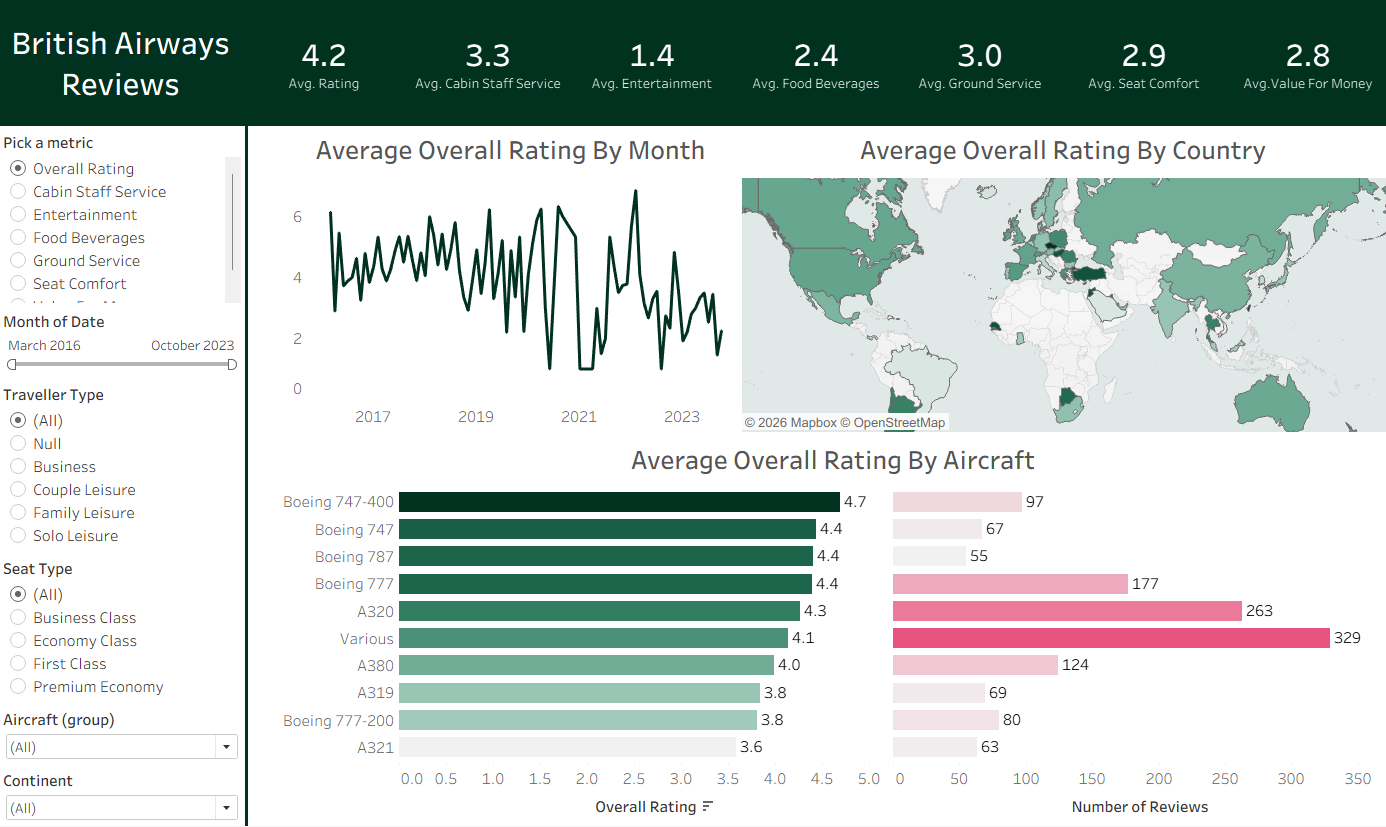

Layout of this report page (visuals, bound fields, positions):
{"tool":"tableau","page":{"name":"British Airways Reviews","canvas":[1390,827],"ordinal":0},"visuals":[{"type":"text","box":[0,0,243.2,127]},{"type":"worksheet","title":"Rating","mark":"Automatic","box":[243,0,164,127]},{"type":"worksheet","title":"Cabin Staff Service","mark":"Automatic","box":[407,0,164,127]},{"type":"worksheet","title":"Entertainment","mark":"Automatic","box":[571,0,164,127]},{"type":"worksheet","title":"Food Beverages","mark":"Automatic","box":[735,0,164,127]},{"type":"worksheet","title":"Ground Service","mark":"Automatic","box":[899,0,164,127]},{"type":"worksheet","title":"Seat Comfort","mark":"Automatic","box":[1063,0,164,127]},{"type":"worksheet","title":"Value For Money","mark":"Automatic","box":[1227,0,163,127]},{"type":"blank","box":[246,127,3,700]},{"type":"parameter","param":"[Parameters].[Parameter 2511298517049344]","box":[0,129,246,179]},{"type":"worksheet","title":"Month","mark":"Automatic","rows":["Calculation_2511298517377025"],"cols":["date"],"box":[280,129,463,304]},{"type":"worksheet","title":"Map","mark":"Multipolygon","box":[740,129,648,304]},{"type":"filter","title":"Map","param":"[federated.0yzcu0y1e6eqfh1bxg20p08eato4].[tmn:date:qk]","box":[0,308,246,73]},{"type":"filter","title":"Map","param":"[federated.0yzcu0y1e6eqfh1bxg20p08eato4].[none:traveller_type:nk]","box":[0,381,246,174]},{"type":"worksheet","title":"Aircraft","mark":"Automatic","cols":["Calculation_2511298517377025","ba_reviews.csv_D85C3BD894084B3A91120915FCE0F044"],"box":[280,439,1108,386]},{"type":"filter","title":"Map","param":"[federated.0yzcu0y1e6eqfh1bxg20p08eato4].[none:seat_type:nk]","box":[0,555,246,151]},{"type":"filter","title":"Map","param":"[federated.0yzcu0y1e6eqfh1bxg20p08eato4].[Aircraft (group)]","box":[0,706,246,61]},{"type":"filter","title":"Map","param":"[federated.0yzcu0y1e6eqfh1bxg20p08eato4].[none:Continent:nk]","box":[0,767,246,61]}]}

Visuals, with their boxes in screenshot pixels (x1, y1, x2, y2), scaled from the page's 1390x827 canvas onto the 1386x827 screenshot:
text: select_region(0, 0, 243, 127)
"Rating" worksheet: select_region(242, 0, 406, 127)
"Cabin Staff Service" worksheet: select_region(406, 0, 569, 127)
"Entertainment" worksheet: select_region(569, 0, 733, 127)
"Food Beverages" worksheet: select_region(733, 0, 896, 127)
"Ground Service" worksheet: select_region(896, 0, 1060, 127)
"Seat Comfort" worksheet: select_region(1060, 0, 1223, 127)
"Value For Money" worksheet: select_region(1223, 0, 1385, 127)
blank: select_region(245, 127, 248, 826)
parameter: select_region(0, 129, 245, 308)
"Month" worksheet: select_region(279, 129, 741, 433)
"Map" worksheet (Multipolygon marks): select_region(738, 129, 1384, 433)
"Map" filter: select_region(0, 308, 245, 381)
"Map" filter: select_region(0, 381, 245, 555)
"Aircraft" worksheet: select_region(279, 439, 1384, 825)
"Map" filter: select_region(0, 555, 245, 706)
"Map" filter: select_region(0, 706, 245, 767)
"Map" filter: select_region(0, 767, 245, 826)
